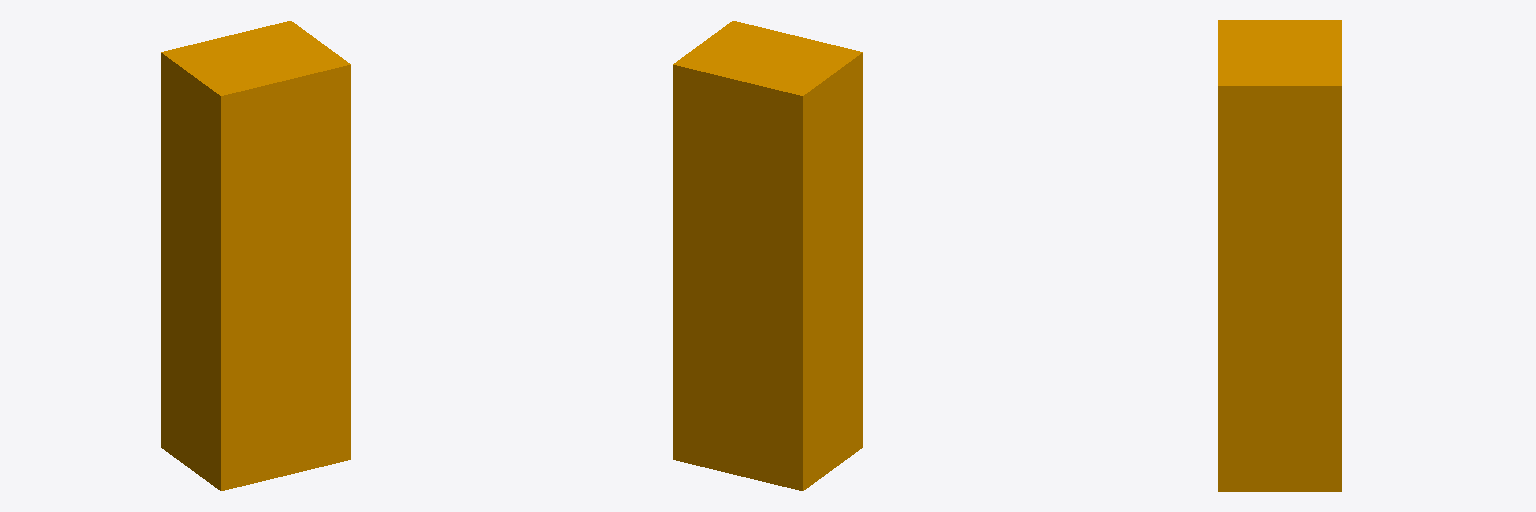
URDF robot description (sunscreen):
<?xml version="1.0" ?>
<robot name="sunscreen">

<material name="silver">
  <color rgba="1 1 1 1.000"/>
</material>

<link name="base_link">
  <inertial>
    <origin xyz="0.0 0.0 0.0725" rpy="0 0 0"/>
    <mass value="2.2764999999999995"/>
    <inertia ixx="0.0042921510416666624" iyy="0.004462888541666666" izz="0.0007778041666666664" ixy="0.0" iyz="-7.139533408917486e-19" ixz="0.0"/>
  </inertial>
  <visual>
    <origin xyz="0 0 0" rpy="0 0 0"/>
    <geometry>
      <mesh filename="meshes/sunscreen.obj" scale="0.01 0.01 0.01"/>
    </geometry>
    <material name="silver"/>
    <material/>
  </visual>
  <collision >
    <origin xyz="0 0 0" rpy="0 0 0"/>
    <geometry>
      <mesh filename="meshes/base_link.stl" scale="0.001 0.001 0.001"/>
    </geometry>
    <contact>
    <soft_cfm value="0.0"/>
      <soft_erp value="0.2"/>
  </contact>
  </collision>
</link>

</robot>

--- Facts derived from the render (not from the file) ---
3 views of the same robot in one strip: view 1: azimuth 30°, elevation 25°; view 2: azimuth 150°, elevation 25°; view 3: azimuth 270°, elevation 25° (orthographic).
Model sunscreen with 1 links and 0 joints (none), rooted at base_link, posed all joints at 0.
Visible links, largest first — view 1: base_link; view 2: base_link; view 3: base_link.
Link boxes in pixels (x1,y1,x2,y2): base_link: (161,21,350,490); base_link: (673,21,862,490); base_link: (1218,20,1341,491).
Bounding box of the posed robot: 0.05 × 0.04 × 0.145 m (x, y, z).
1 mesh visuals loaded from 1 distinct referenced files (1 OBJ).